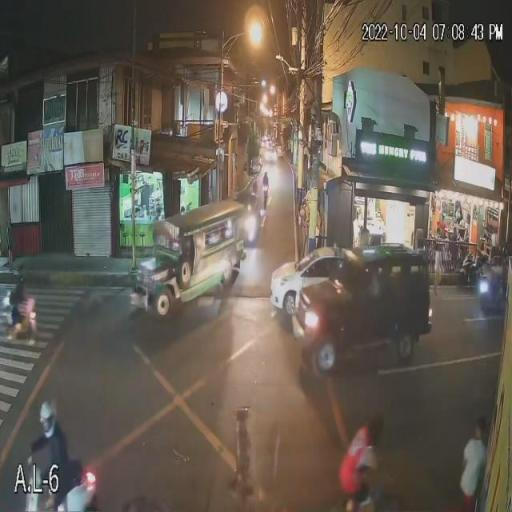helmet: (34, 399, 62, 441)
motorcycle: (10, 471, 100, 511)
rider: (38, 435, 73, 505)
